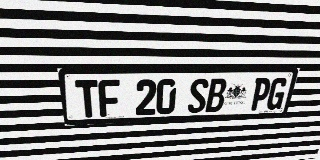0: (156, 79, 177, 115)
2: (136, 79, 157, 115)
B: (205, 78, 228, 112)
F: (98, 80, 120, 117)
G: (265, 78, 289, 110)
P: (249, 78, 273, 111)
S: (187, 78, 209, 113)
T: (75, 80, 99, 118)
